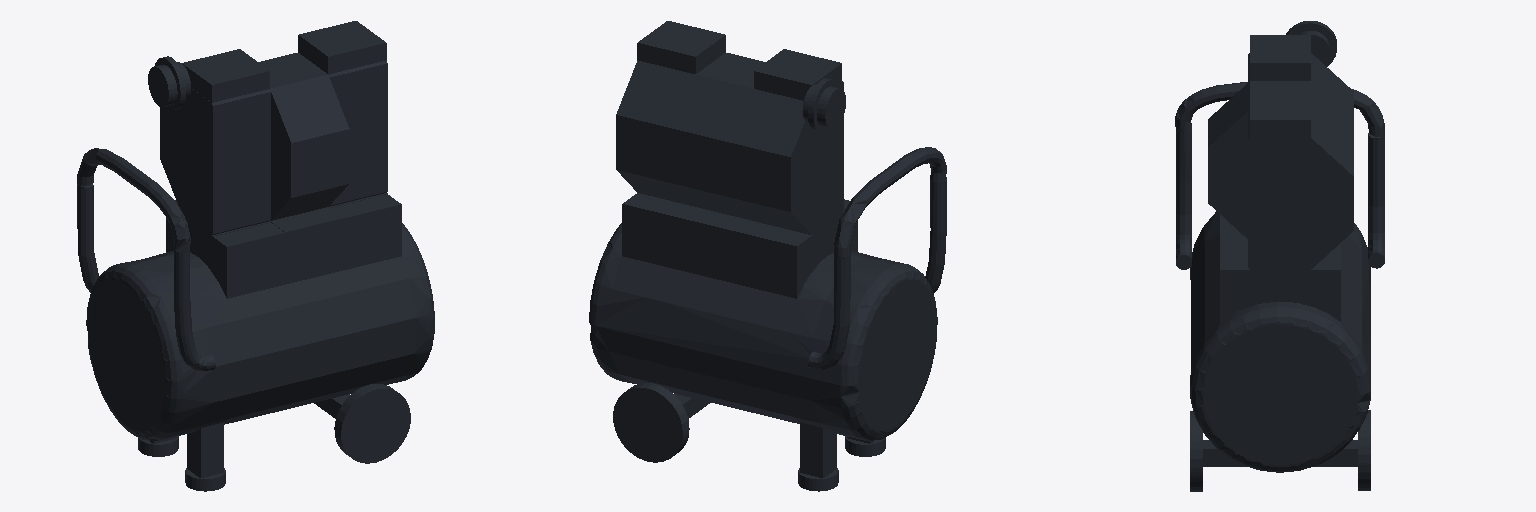
The robot description file, URDF, robot "air_compressor_new":
<?xml version="1.0"?>
<!--
  air_compressor_new.urdf
  바탕화면 "air_compressor_model_make.step-BodyAdditivePipe002.step" → 변환. 단일 바디(링크 1개).
  기존 air_compressor.urdf를 대체하는 새 에어컴프레셔 모델.
  - 원본 STEP 단위 mm → 메쉬 좌표 자체를 m로 스케일 (scale="1 1 1")
  - 원점: 모델 자체 기준점 (중심/바닥 어디에도 안 맞음, x:-0.013~0.483, y:-0.27~0.177, z:-0.249~0.472)
  - 치수 0.483 x 0.447 x 0.721 m (삼각형 3,898면)
  - 시각(visual): 원본 메쉬. 충돌(collision): 박스로 단순화(치수=메쉬 바운딩박스)
  - 정적 소품(스탠드 내부 거치)이므로 스폰 시 AssetOptions.fix_base_link=True 권장
-->
<robot name="air_compressor_new">

  <material name="compressor_dark"> <color rgba="0.20 0.22 0.25 1.0"/> </material>

  <link name="base_link">
    <inertial>
      <origin xyz="0.2286 -0.0464 0.1118"/>
      <mass value="25.0"/>
      <!-- 박스 관성 (m=25, 0.483x0.447x0.721) -->
      <inertia ixx="1.5006" ixy="0" ixz="0" iyy="1.5703" iyz="0" izz="0.9031"/>
    </inertial>

    <visual>
      <origin xyz="0 0 0"/>
      <geometry><mesh filename="meshes/air_compressor_new.stl" scale="1 1 1"/></geometry>
      <material name="compressor_dark"/>
    </visual>

    <collision>
      <origin xyz="0.2286 -0.0464 0.1118"/>
      <geometry><box size="0.483 0.447 0.721"/></geometry>
    </collision>
  </link>
</robot>

--- Facts derived from the render (not from the file) ---
Views: 3 orthographic renders of the robot side by side, from view 1: azimuth 30°, elevation 25°; view 2: azimuth 150°, elevation 25°; view 3: azimuth 270°, elevation 25°.
Model air_compressor_new with 1 links and 0 joints (none), rooted at base_link, posed all joints at 0.
Visible links, largest first — view 1: base_link; view 2: base_link; view 3: base_link.
Link boxes in pixels (x1,y1,x2,y2): base_link: (77,21,434,491); base_link: (589,21,946,491); base_link: (1175,21,1384,491).
Bounding box of the posed robot: 0.461 × 0.3125 × 0.648 m (x, y, z).
Meshes: 1 distinct files referenced, 1 mesh visuals loaded (1 binary STL).
